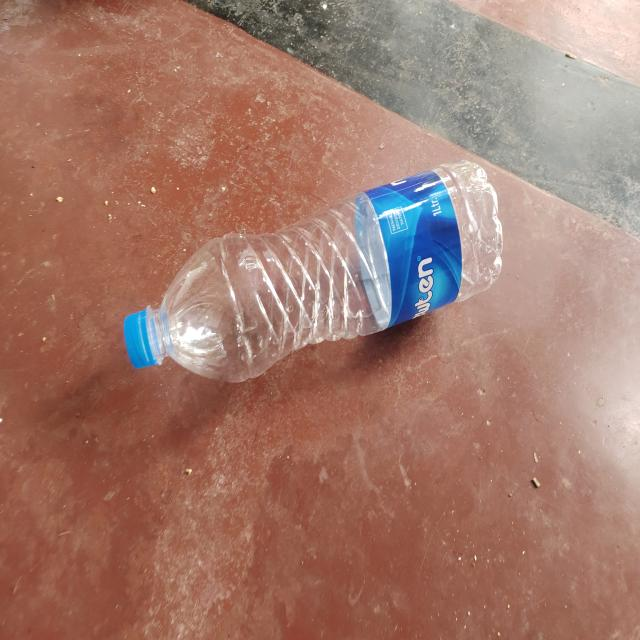plastic: (121, 159, 505, 387)
